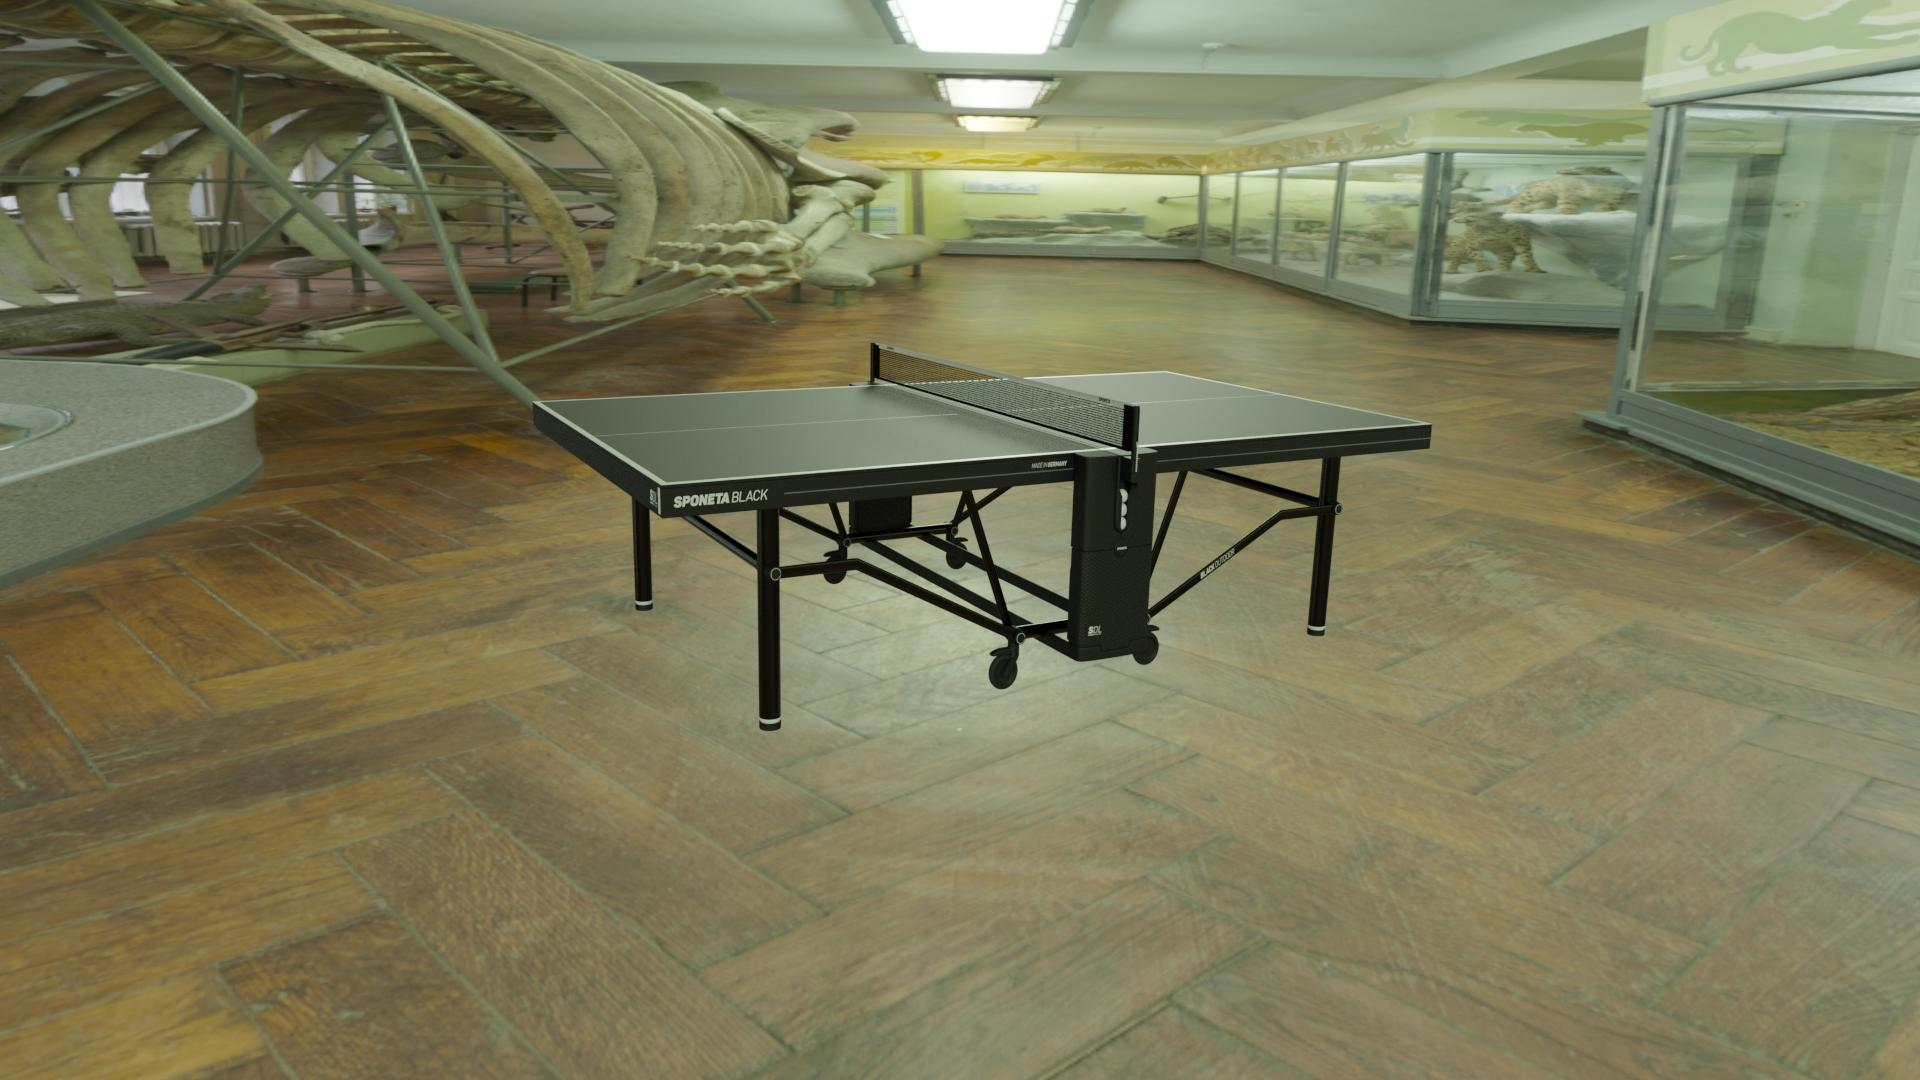table: (539, 372, 1424, 483)
